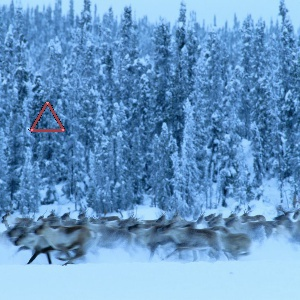triangle: (27, 98, 67, 135)
